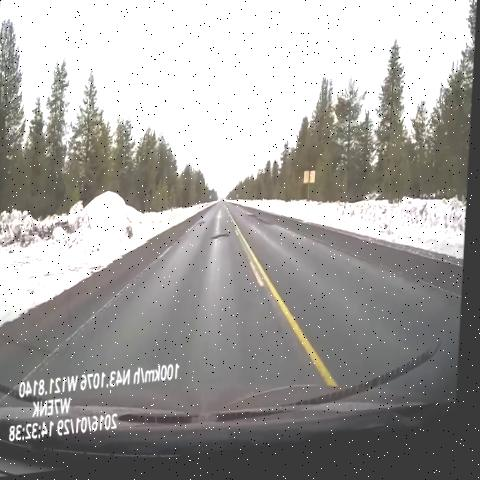pothole: (244, 204, 278, 245), (210, 231, 238, 258), (196, 223, 212, 236)
